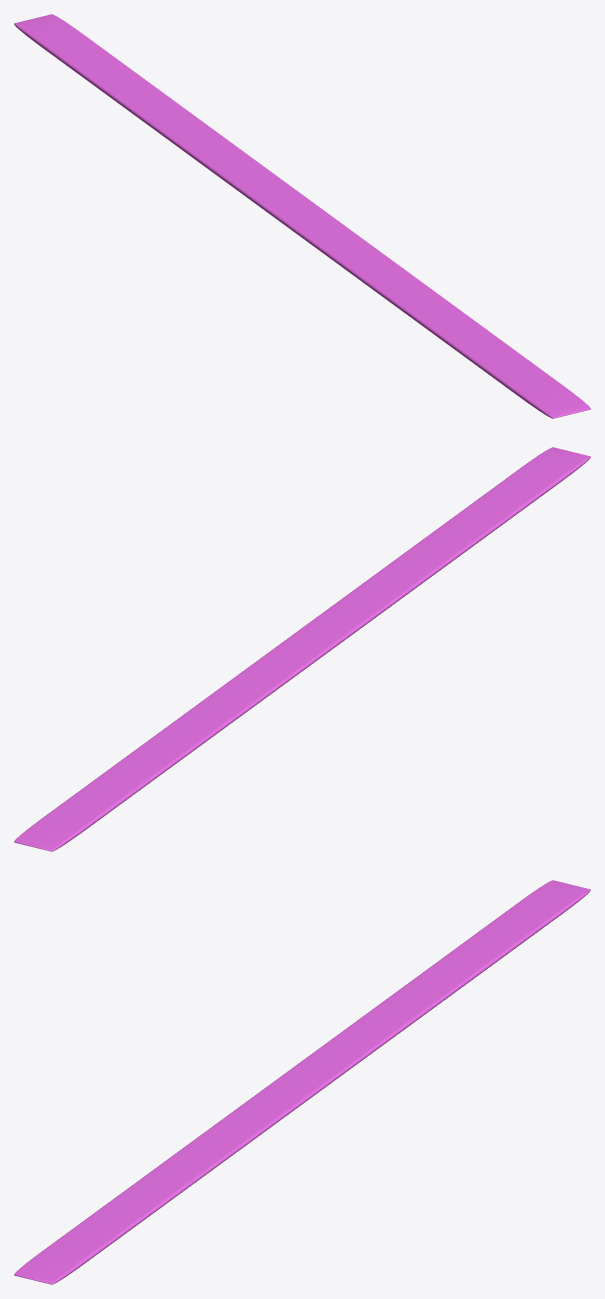
Rendered from GroundPattern2.fbx.
The picture shows the model from 3 angles, top to bottom: view 1: azimuth 30°, elevation 25°; view 2: azimuth 150°, elevation 25°; view 3: azimuth 330°, elevation 25°; orthographic projection.
Visible parts, largest first — view 1: Plane.004; view 2: Plane.004; view 3: Plane.004.
Part boxes in pixels (left/top/right/bottom): Plane.004: left=14, top=14, right=590, bottom=418; Plane.004: left=14, top=447, right=590, bottom=851; Plane.004: left=14, top=880, right=590, bottom=1284.
Size of the model in its own units: 200 by 19.52 by 4386.
